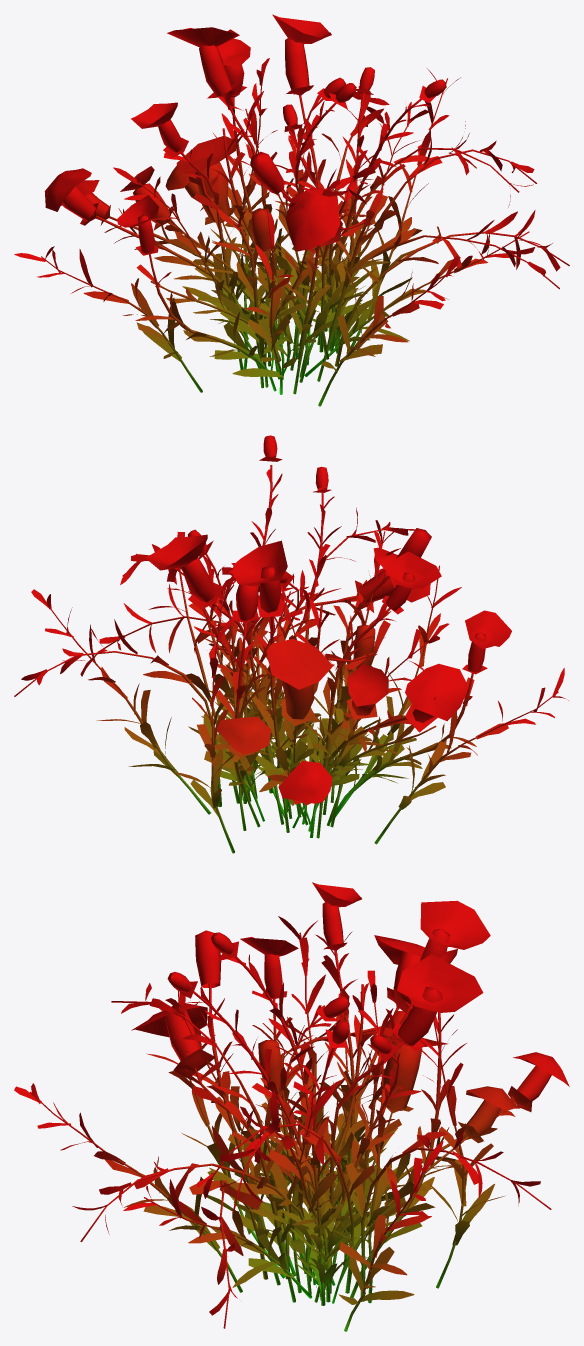
The model's file is Var9_LOD1.fbx.
3 views of the same model, one above another, from view 1: azimuth 30°, elevation 25°; view 2: azimuth 150°, elevation 25°; view 3: azimuth 270°, elevation 25° (orthographic). The views are drawn at different scales.
Parts seen in each view (by area): view 1: _lsgl_Var9_LOD1; view 2: _lsgl_Var9_LOD1; view 3: _lsgl_Var9_LOD1.
Part boxes in pixels (bbox=[...]): _lsgl_Var9_LOD1: bbox=[14, 14, 569, 406]; _lsgl_Var9_LOD1: bbox=[14, 435, 568, 853]; _lsgl_Var9_LOD1: bbox=[14, 882, 569, 1331].
Bounding box in the file's own units: 46.37 × 28.24 × 38.02.
